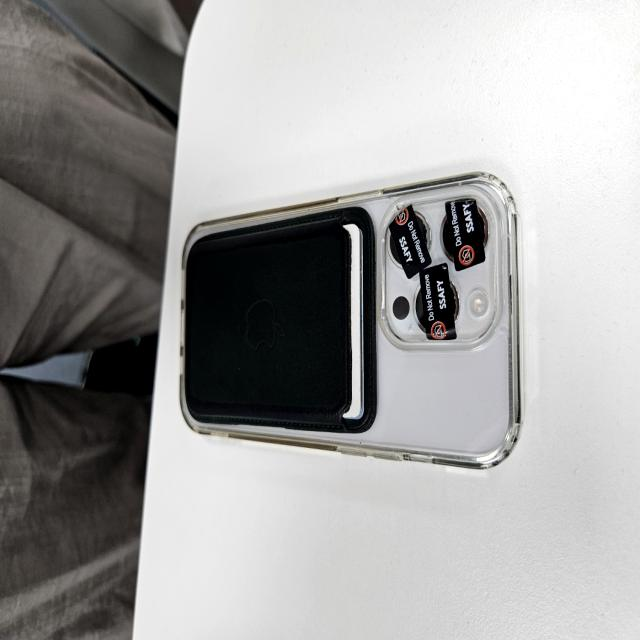phone: (179, 171, 523, 469)
sticker: (445, 198, 490, 272), (389, 204, 432, 280), (418, 263, 459, 340)
